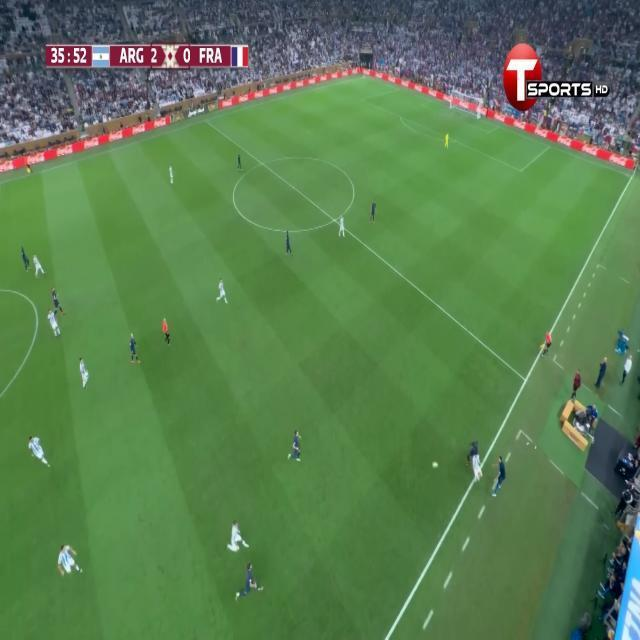ball: (427, 451, 443, 485)
goalkeeper: (444, 131, 452, 157)
player: (221, 508, 267, 612), (43, 522, 98, 587), (276, 402, 311, 484), (38, 289, 77, 362), (21, 419, 57, 474), (227, 139, 255, 200), (279, 214, 309, 270), (14, 240, 50, 283), (163, 153, 188, 206), (76, 348, 100, 403), (334, 195, 358, 250), (358, 180, 384, 230), (495, 441, 509, 511), (126, 317, 141, 377), (213, 269, 236, 308), (469, 432, 486, 481)
referee: (543, 321, 561, 372)
